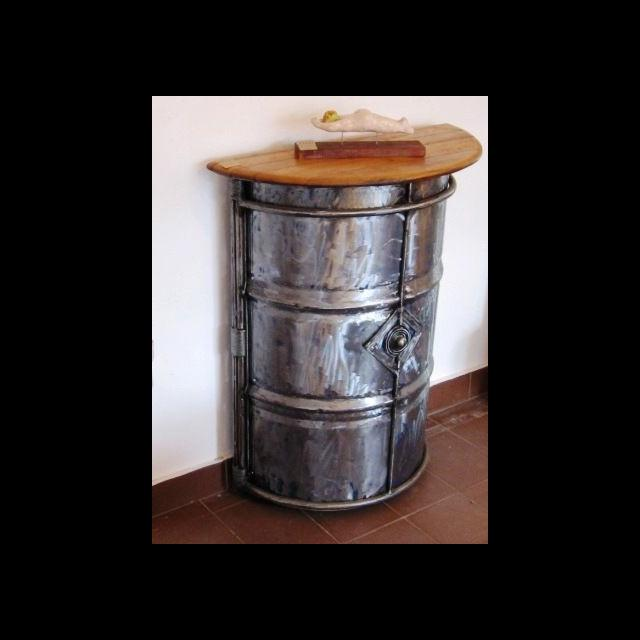metal: (212, 161, 447, 514)
